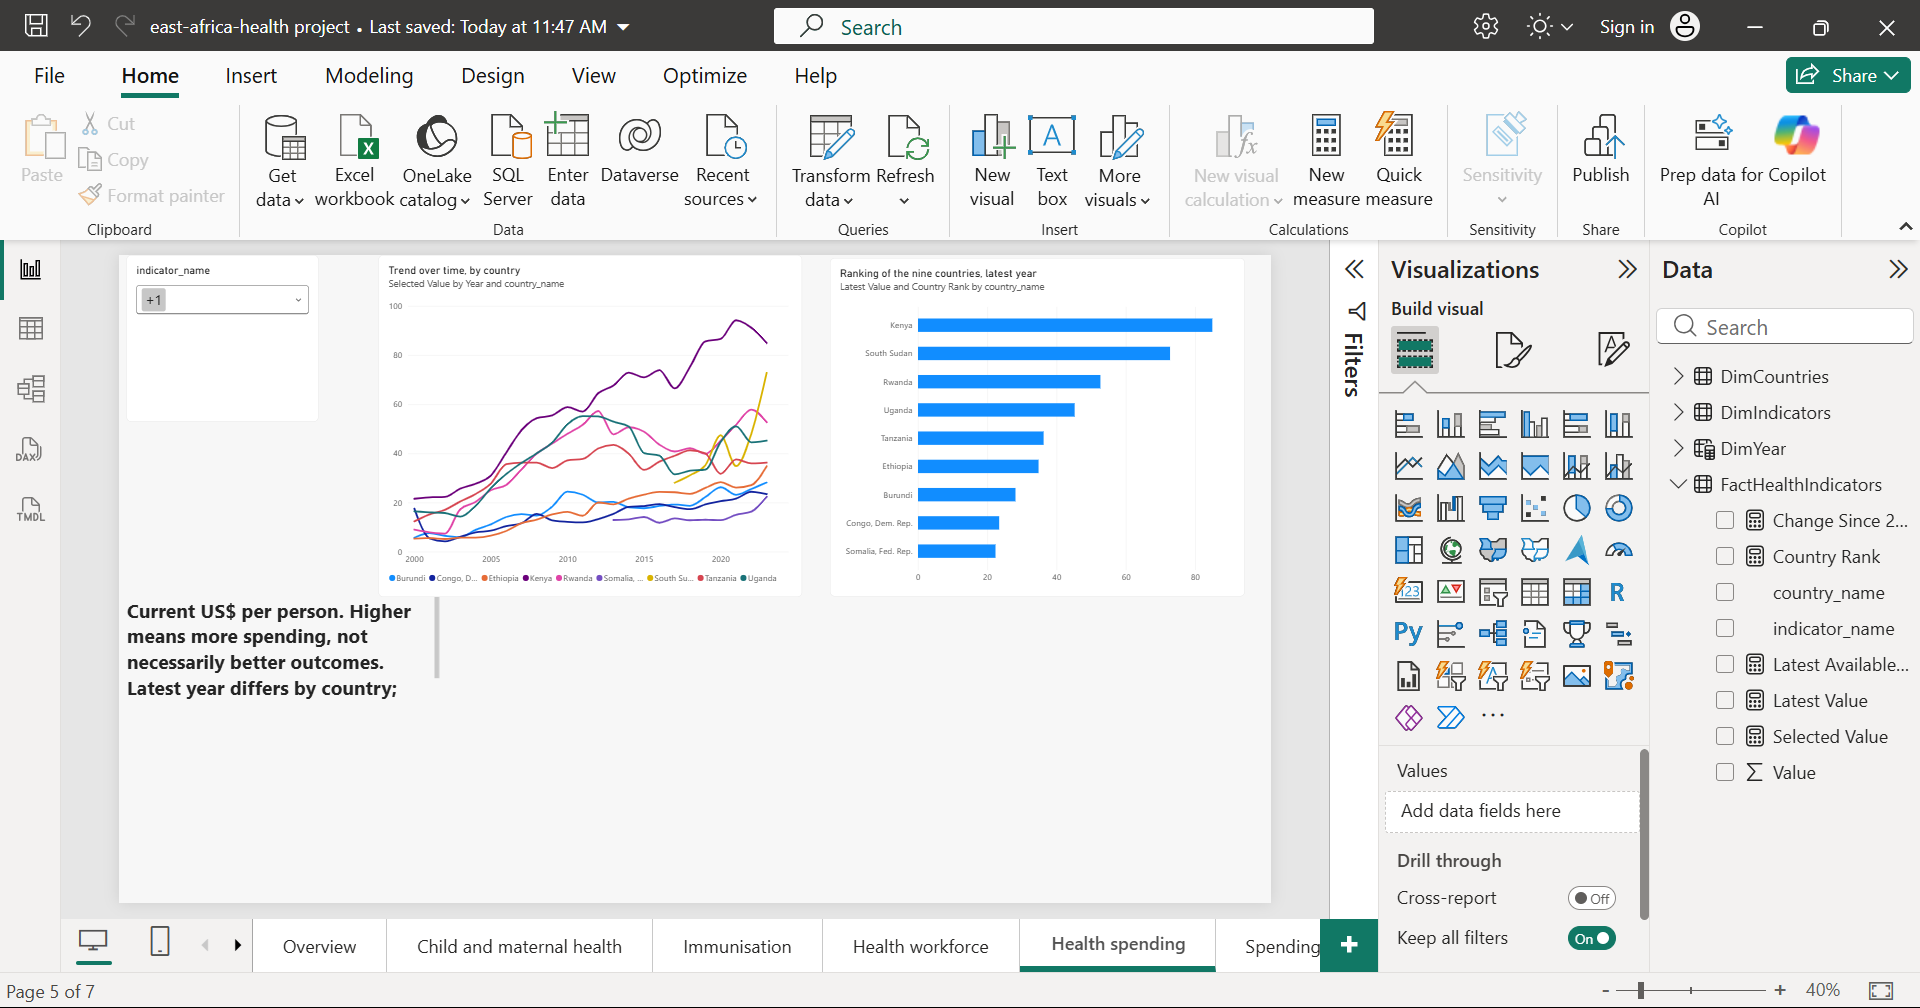

The page's visual inventory and layout, read from the dashboard file:
{"tool":"powerbi","page":{"name":"Health spending","canvas":[1920,1080],"ordinal":4},"visuals":[{"type":"listSlicer","fields":{"Values":["DimIndicators.indicator_name"]},"box":[11.3,0,320.3,277.8],"z":0},{"type":"lineChart","title":"Trend over time, by country","fields":{"Category":["DimYear.Year"],"Series":["FactHealthIndicators.country_name"],"Y":["FactHealthIndicators.Selected Value"]},"box":[433.7,0,705.8,569.8],"z":1000},{"type":"clusteredBarChart","title":"Ranking of the nine countries, latest year","fields":{"Category":["FactHealthIndicators.country_name"],"Y":["FactHealthIndicators.Latest Value"]},"box":[1184.9,5.7,691.7,564.1],"z":2000},{"type":"textbox","box":[11.3,569.8,521.6,170.1],"z":3000}]}

Visuals, with their boxes on the page's 1920x1080 design canvas (x1, y1, x2, y2). These are canvas units, not pixel positions in the 1920x1008 screenshot, which may show the page scaled, cropped or inside an application window:
listSlicer - DimIndicators.indicator_name: <region>11, 0, 332, 278</region>
"Trend over time, by country" lineChart: <region>434, 0, 1140, 570</region>
"Ranking of the nine countries, latest year" clusteredBarChart: <region>1185, 6, 1877, 570</region>
textbox: <region>11, 570, 533, 740</region>
